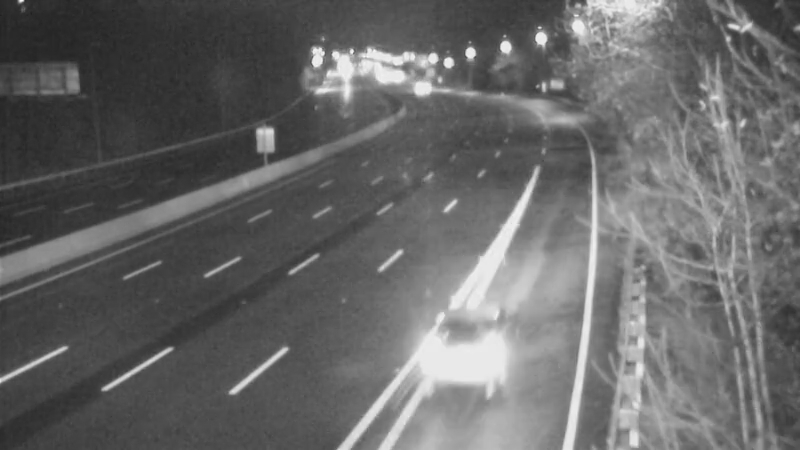vehicle: (401, 298, 511, 408), (395, 63, 445, 113)
